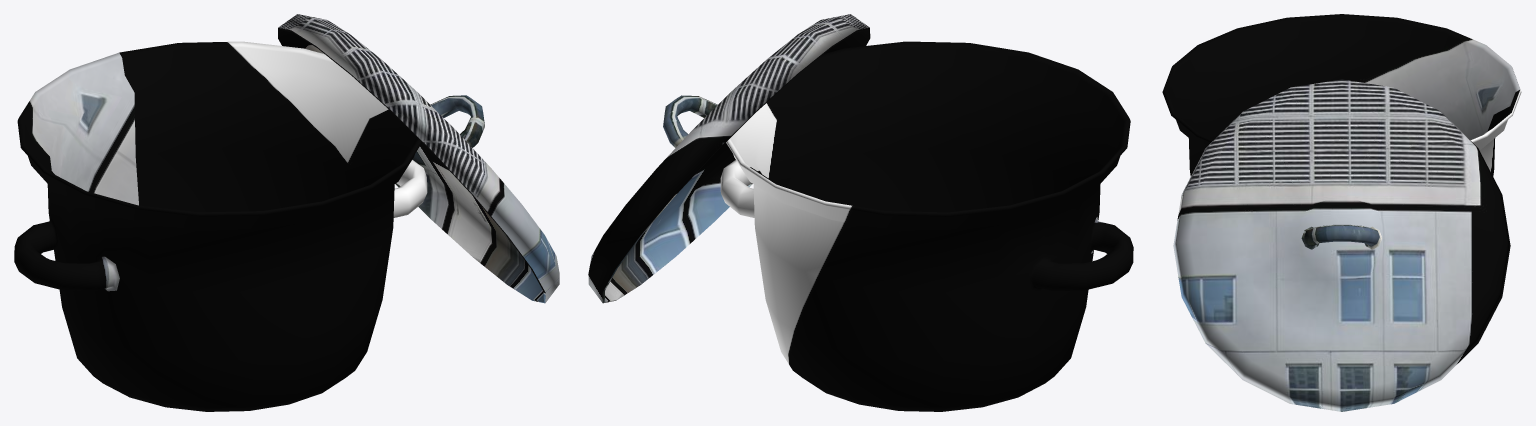
Rendered from olla.fbx.
The picture shows the model from 3 angles, left to right: view 1: azimuth 30°, elevation 25°; view 2: azimuth 150°, elevation 25°; view 3: azimuth 270°, elevation 25°; orthographic projection. The views are drawn at different scales.
Parts seen in each view (by area): view 1: Cylinder001_Pot_0; view 2: Cylinder001_Pot_0; view 3: Cylinder001_Pot_0.
Part boxes in pixels (x1,y1,x2,y2): Cylinder001_Pot_0: (14, 14, 559, 411); Cylinder001_Pot_0: (588, 14, 1133, 411); Cylinder001_Pot_0: (1162, 14, 1521, 411).
Bounding box in the file's own units: 59.92 × 33.84 × 42.55.
